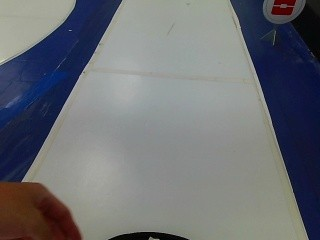company: (260, 1, 302, 23)
